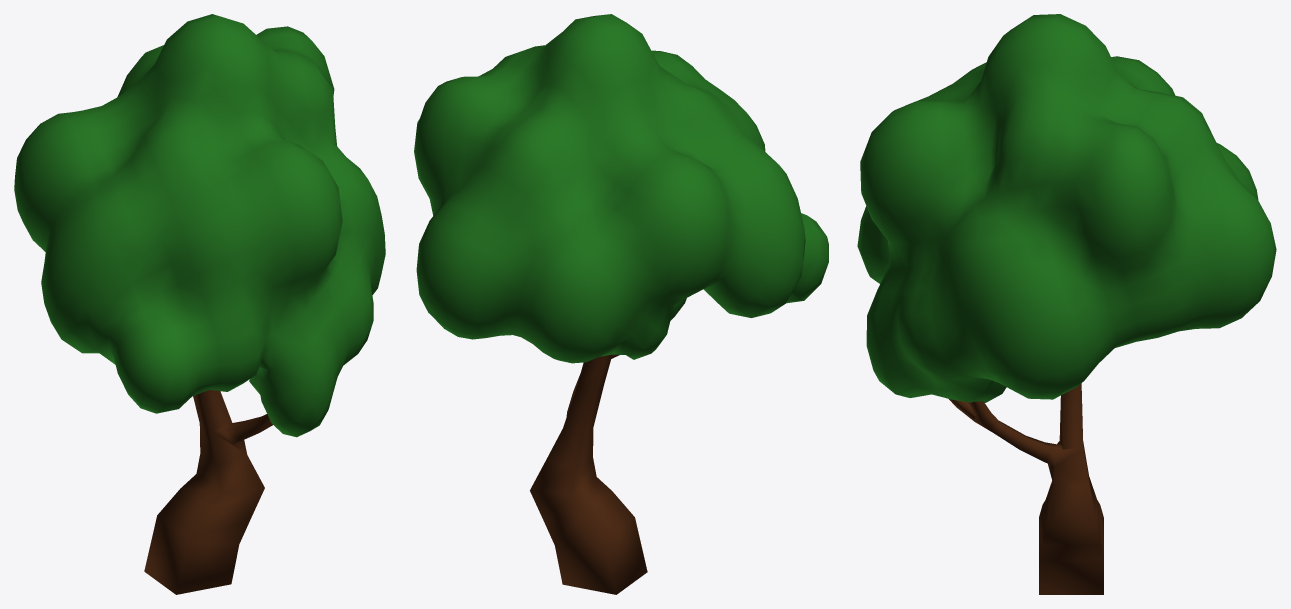
Rendered from arbol3.fbx.
3 views of the same model, side by side, from view 1: azimuth 30°, elevation 25°; view 2: azimuth 150°, elevation 25°; view 3: azimuth 270°, elevation 25° (orthographic). The views are drawn at different scales.
Parts seen in each view (by area): view 1: tree3; view 2: tree3; view 3: tree3.
Part boxes in pixels (x1,y1,x2,y2): tree3: (14,14,385,594); tree3: (414,14,828,594); tree3: (857,14,1276,594).
Bounding box in the file's own units: 430 × 681 × 452.
